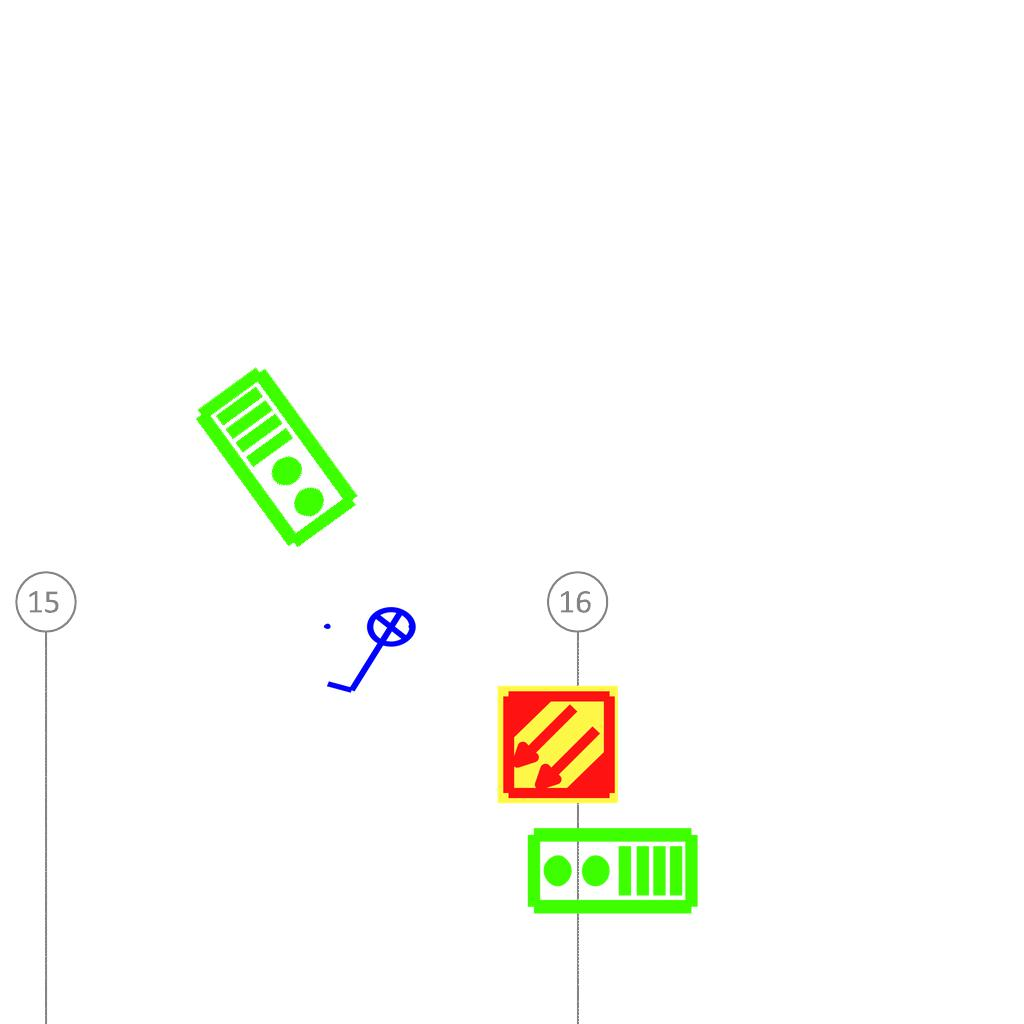ASR_Ansaugrauchmelder: (495, 682, 620, 807)
Ausschalter_beleuchtet: (318, 605, 430, 701)
Gegensprechanlage_mit_Video: (188, 357, 369, 557), (524, 825, 700, 920)
